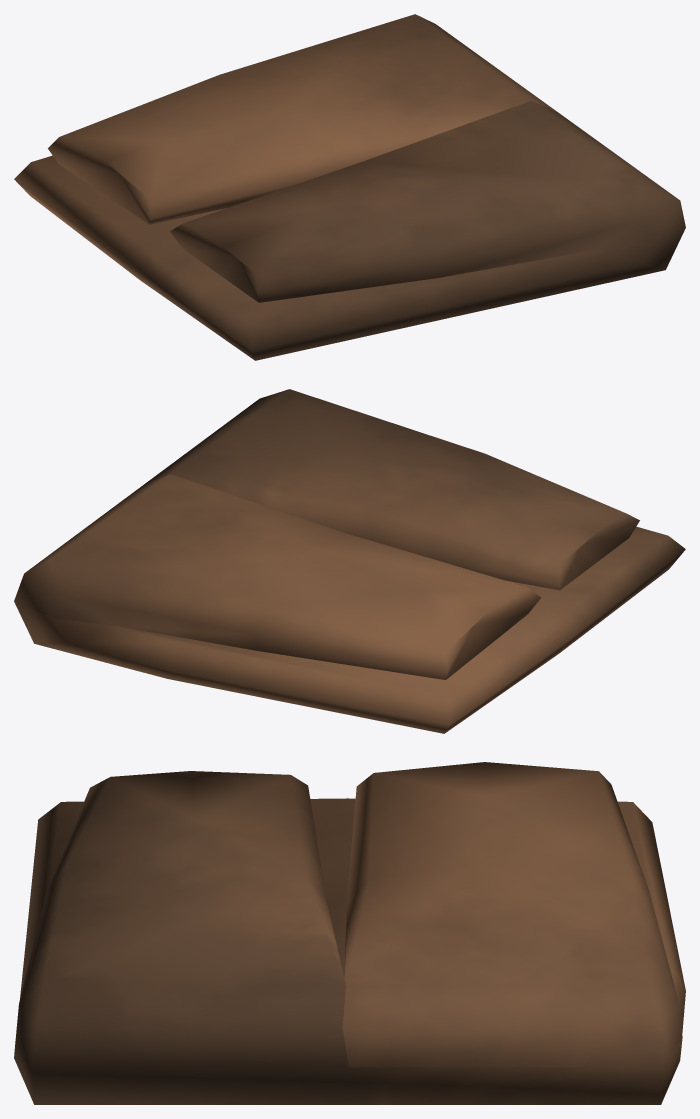
Rendered from ArmorLeatherLegs.fbx.
3 views of the same model, one above another, from view 1: azimuth 30°, elevation 25°; view 2: azimuth 150°, elevation 25°; view 3: azimuth 270°, elevation 25° (orthographic). The views are drawn at different scales.
Parts seen in each view (by area): view 1: log; view 2: log; view 3: log.
Part boxes in pixels (x1,y1,x2,y2): log: (14, 14, 685, 360); log: (14, 389, 685, 733); log: (14, 762, 685, 1104).
Bounding box in the file's own units: 60.72 × 14.42 × 62.72.
1 material, 1 textured.
